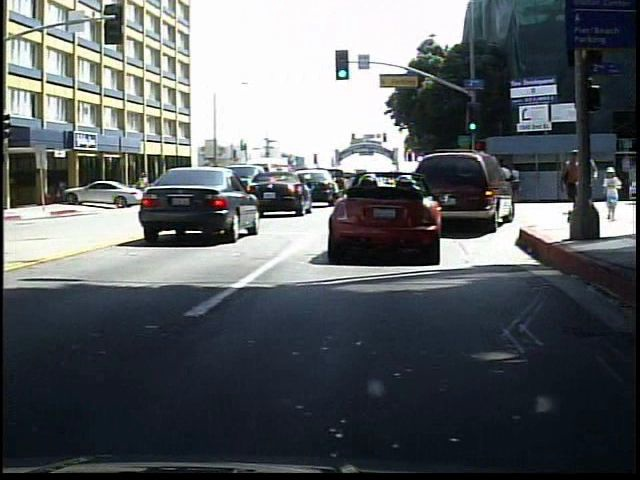person: (555, 146, 580, 223), (594, 168, 620, 222), (132, 171, 155, 205)
